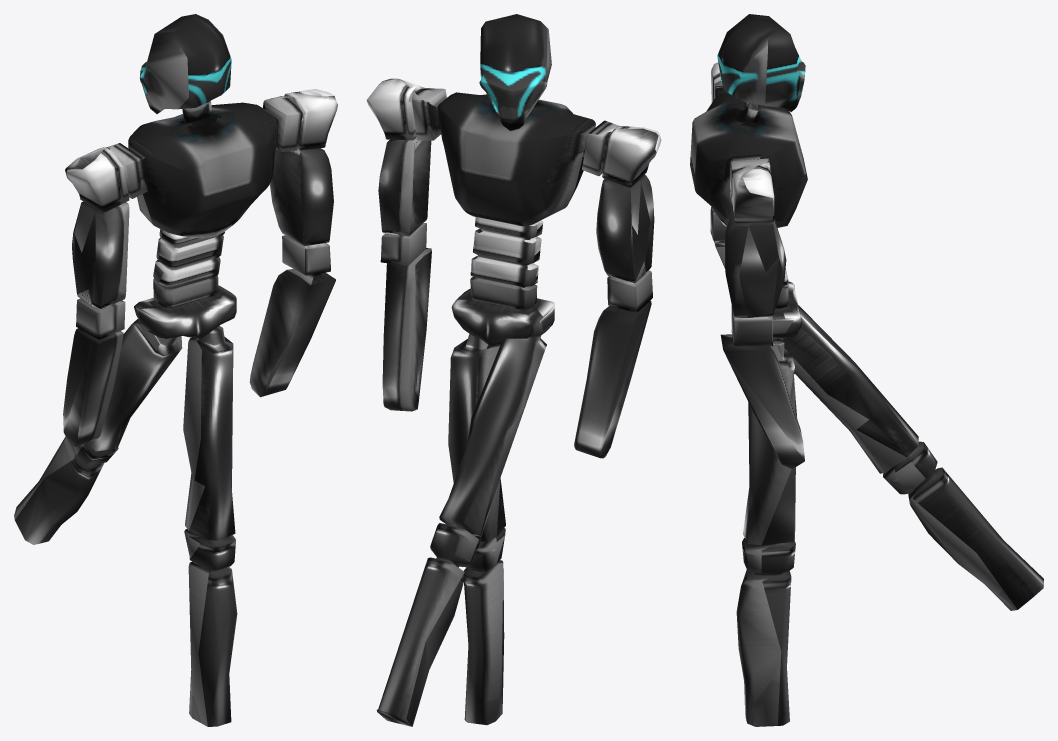
File: frame_034.obj
The picture shows the model from 3 angles, left to right: view 1: azimuth 30°, elevation 25°; view 2: azimuth 150°, elevation 25°; view 3: azimuth 270°, elevation 25°; orthographic projection. The views are drawn at different scales.
Visible parts, largest first — view 1: Cyborg, PiernaD, PierzaI, AntebrazoD, Cabeza, BrazoD; view 2: Cyborg, PierzaI, PiernaD, AntebrazoD, Cabeza, BrazoD; view 3: PierzaI, PiernaD, Cyborg, AntebrazoD, Cabeza, BrazoD.
Part boxes in pixels (x1=…): Cyborg: x1=63, y1=96, x2=303, y2=446; PiernaD: x1=183, y1=325, x2=237, y2=726; PierzaI: x1=14, y1=319, x2=182, y2=544; AntebrazoD: x1=270, y1=89, x2=337, y2=275; Cabeza: x1=140, y1=14, x2=231, y2=113; BrazoD: x1=249, y1=269, x2=335, y2=397; Cyborg: x1=411, y1=88, x2=661, y2=458; PierzaI: x1=377, y1=336, x2=546, y2=726; PiernaD: x1=448, y1=334, x2=505, y2=725; AntebrazoD: x1=366, y1=78, x2=431, y2=265; Cabeza: x1=479, y1=14, x2=551, y2=130; BrazoD: x1=382, y1=248, x2=431, y2=411; PierzaI: x1=783, y1=305, x2=1043, y2=610; PiernaD: x1=736, y1=338, x2=796, y2=726; Cyborg: x1=690, y1=62, x2=807, y2=374; AntebrazoD: x1=725, y1=165, x2=786, y2=347; Cabeza: x1=717, y1=14, x2=805, y2=111; BrazoD: x1=720, y1=334, x2=804, y2=469.
Size of the model in its own units: 10.08 by 24.74 by 11.6.
1 material, 1 textured.
